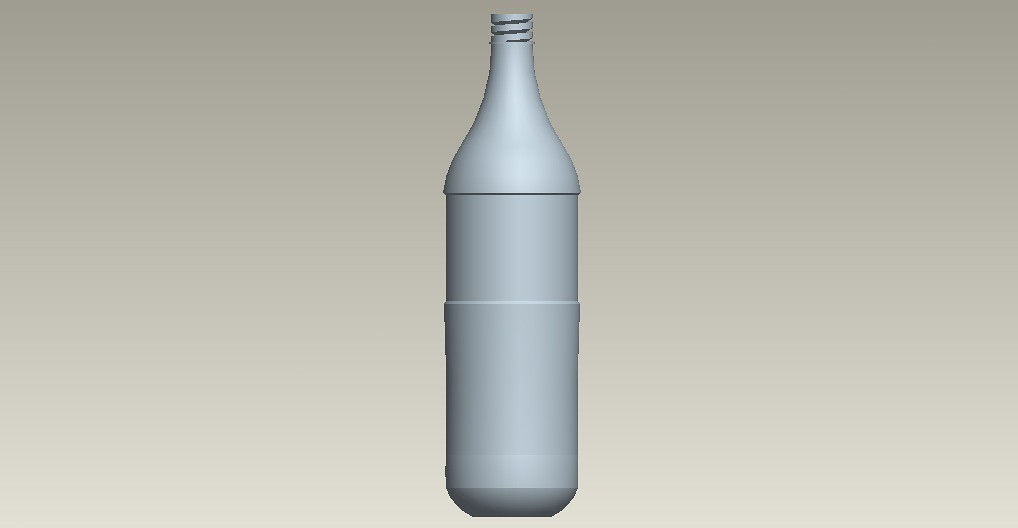Bottle: (407, 10, 605, 521)
